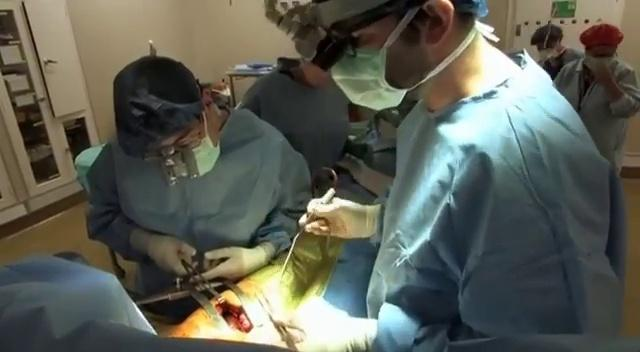doctor: (293, 0, 628, 351), (76, 49, 314, 303)
others: (551, 22, 639, 178), (524, 22, 581, 75)
